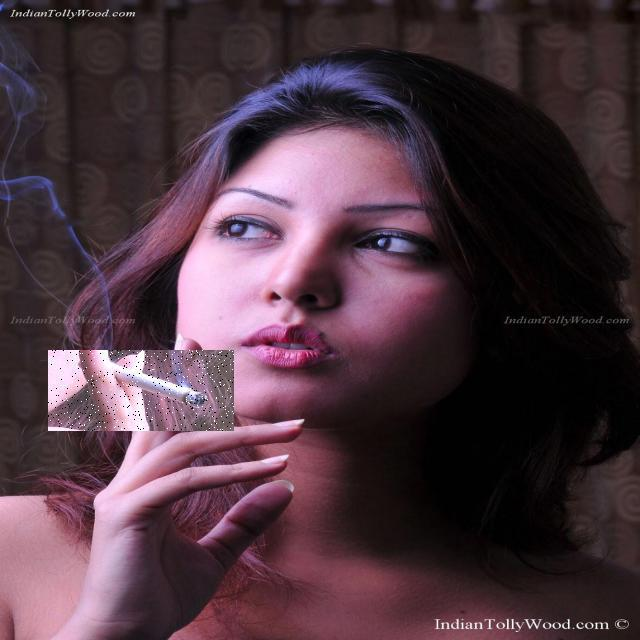smoking: (48, 350, 234, 431)
